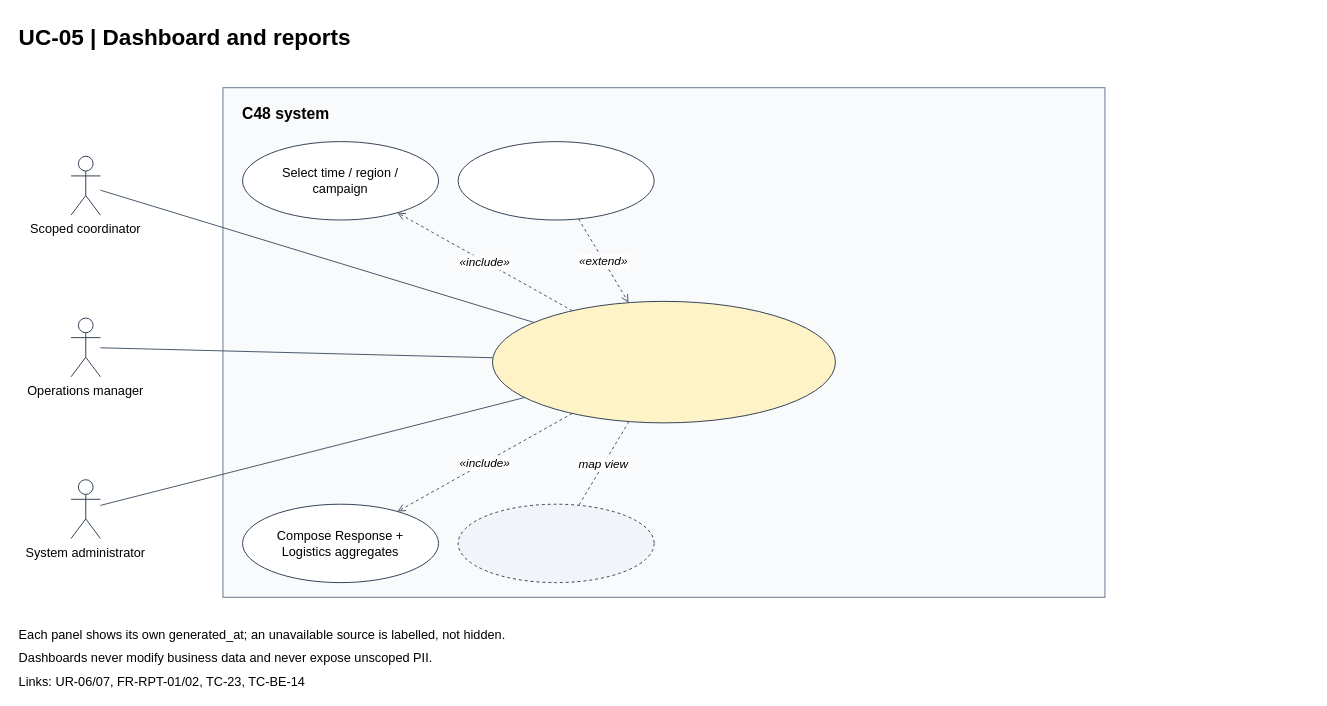
This 1327x706 diagram has some shape labels left out. The centre of each missing label's shape, as x and y in pixels:
"Export CSV (masked, audited)" goes at point (555, 180).
"UC-05 Dashboard and reports" goes at point (663, 361).
"UC-16 Heatmap and grouped queue" goes at point (555, 543).
